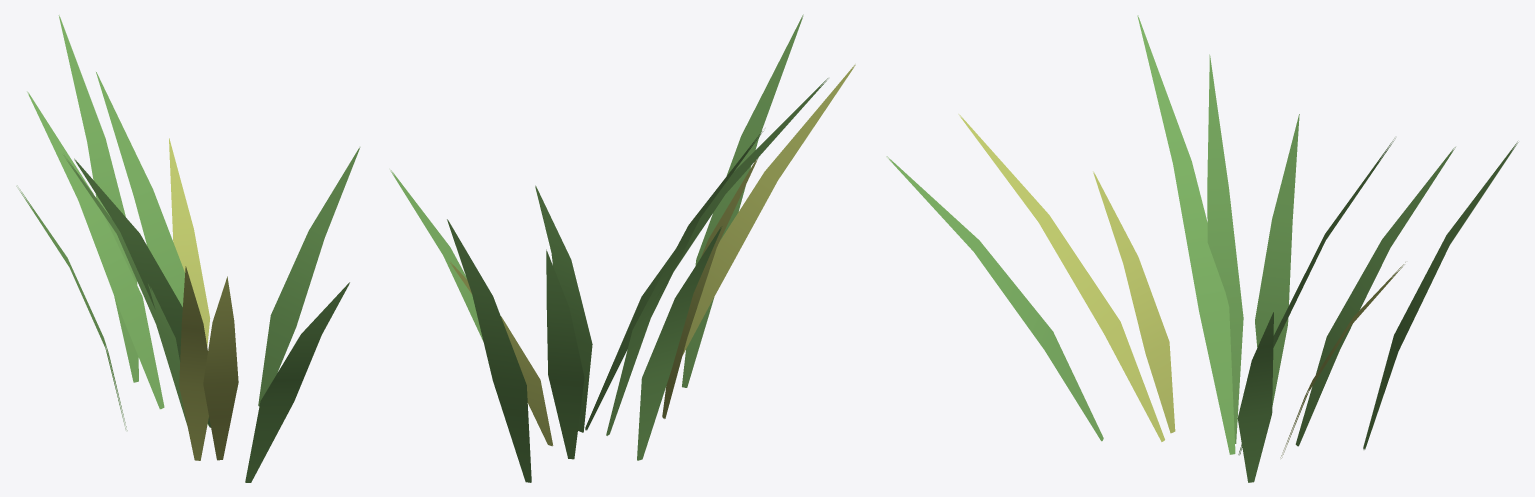
The model's file is grass.fbx.
3 views of the same model, side by side, from view 1: azimuth 30°, elevation 25°; view 2: azimuth 150°, elevation 25°; view 3: azimuth 270°, elevation 25° (orthographic). The views are drawn at different scales.
Parts seen in each view (by area): view 1: grass_LOD0; view 2: grass_LOD0; view 3: grass_LOD0.
Part boxes in pixels (left/top/right/bottom): grass_LOD0: left=16, top=15, right=360, bottom=482; grass_LOD0: left=390, top=14, right=855, bottom=482; grass_LOD0: left=886, top=15, right=1518, bottom=482.
Size of the model in its own units: 0.7454 by 0.7017 by 1.15.
